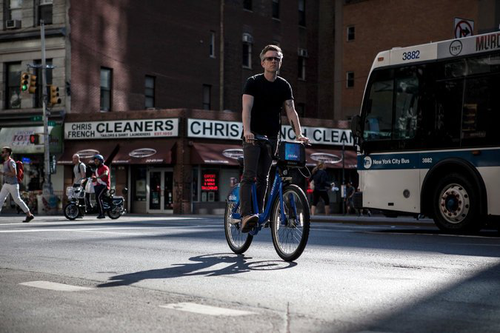bikerider: (216, 43, 318, 269)
